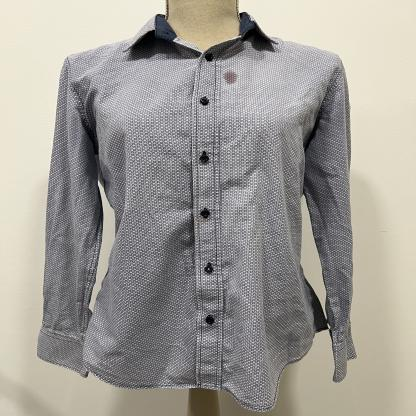stain: (222, 70, 242, 86)
